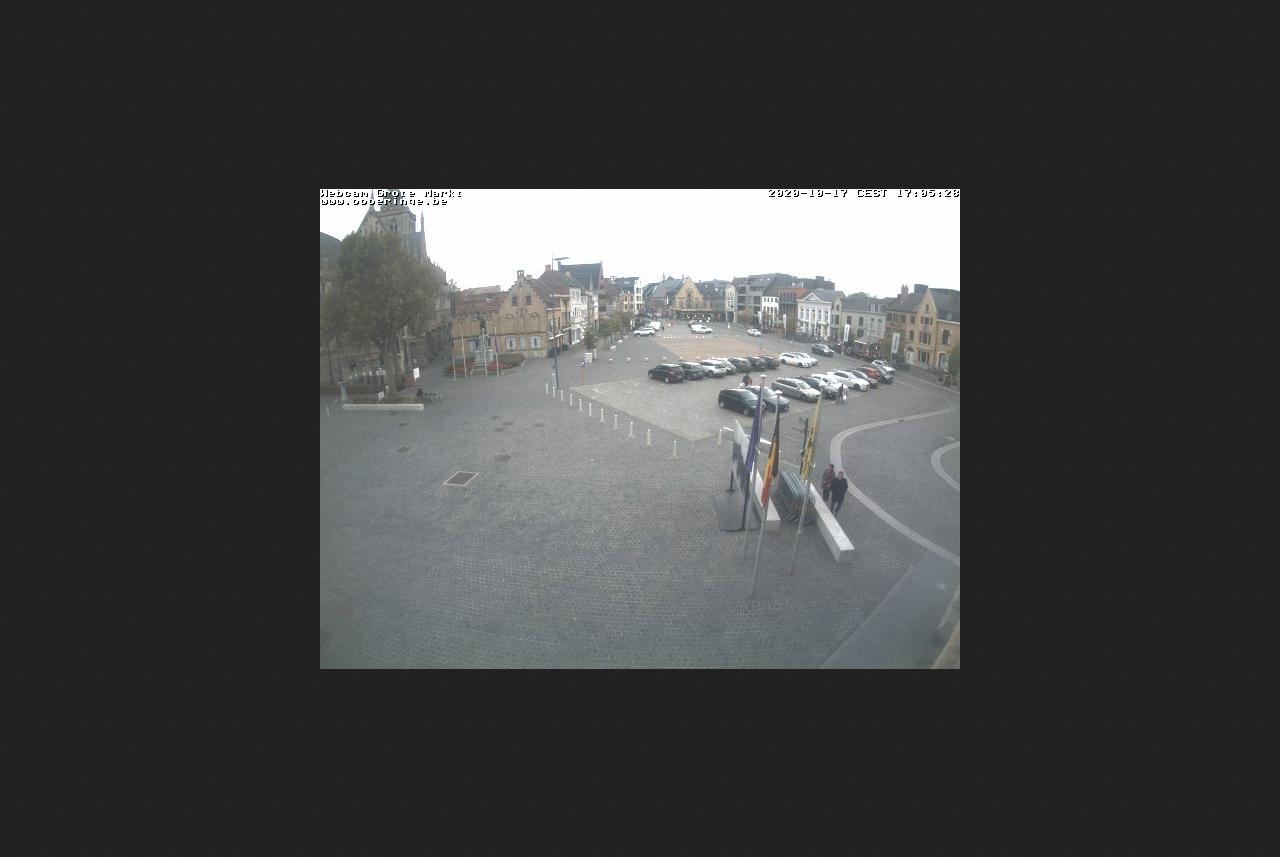no: (758, 400, 782, 510), (741, 386, 760, 492), (799, 396, 816, 486), (448, 333, 457, 355), (480, 335, 487, 357), (460, 335, 466, 357), (493, 332, 497, 358)
